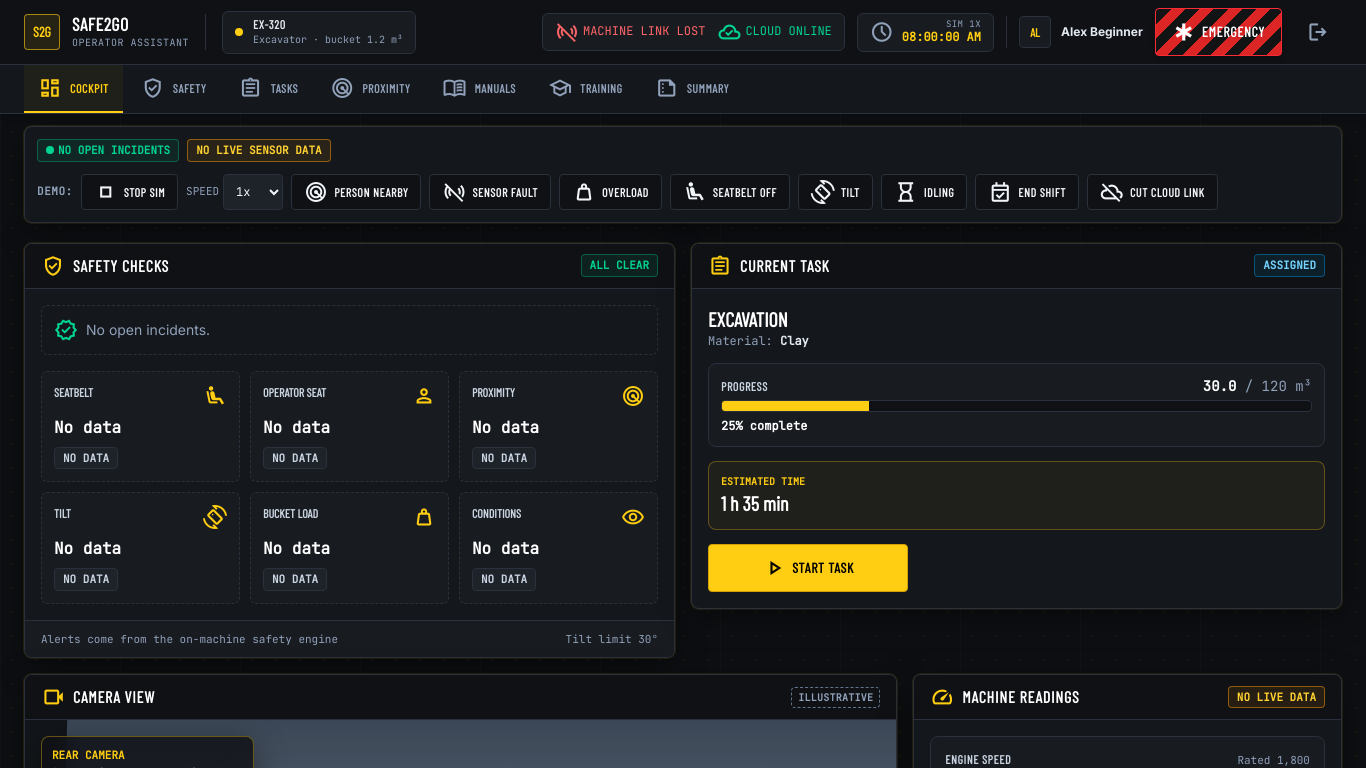
it: Cockpit wiring › starts a task through the API
The width and height of the screenshot is (1366, 768).
What coordinates should you click on to do the following:
click the button "Start task"
I would click on:
 (808, 568)
Its box is [708,544,908,592].
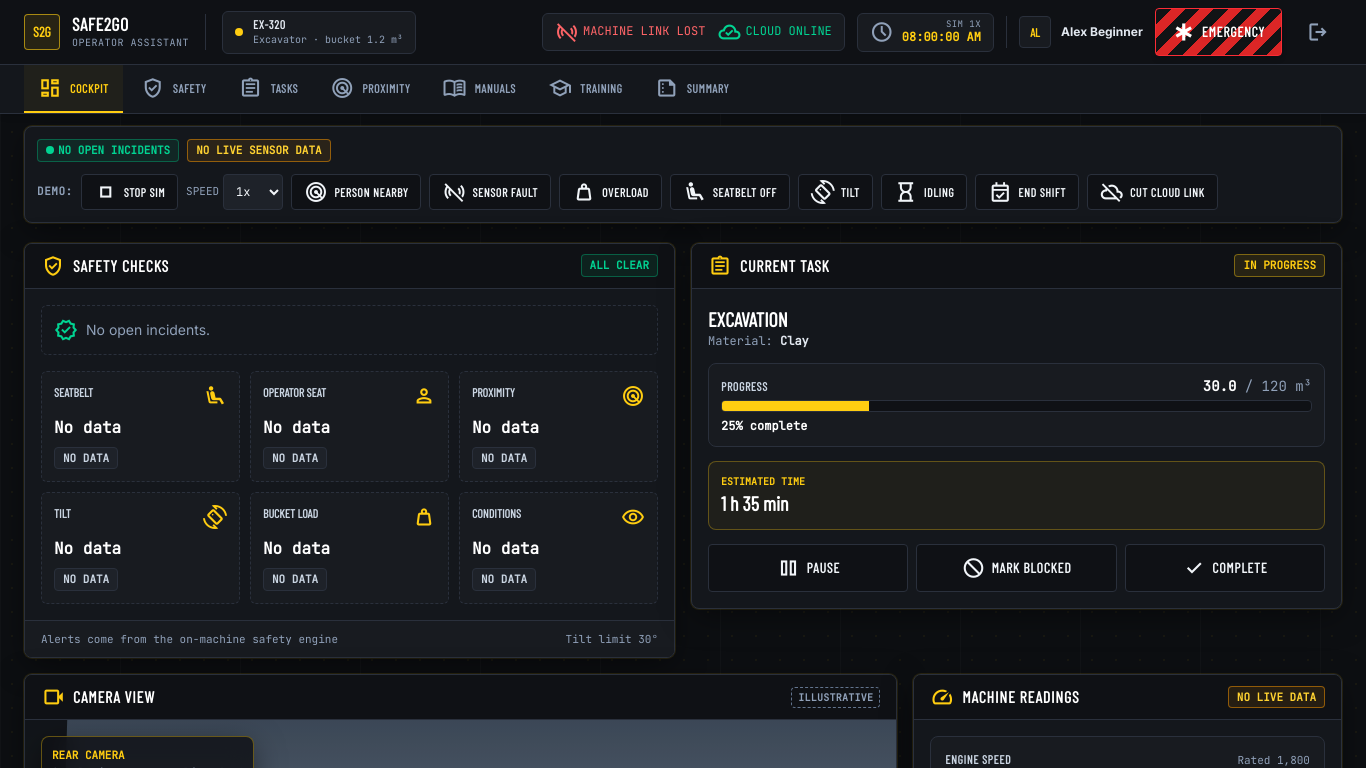
Result: the button "Pause" is shown at [708,544,908,592]
